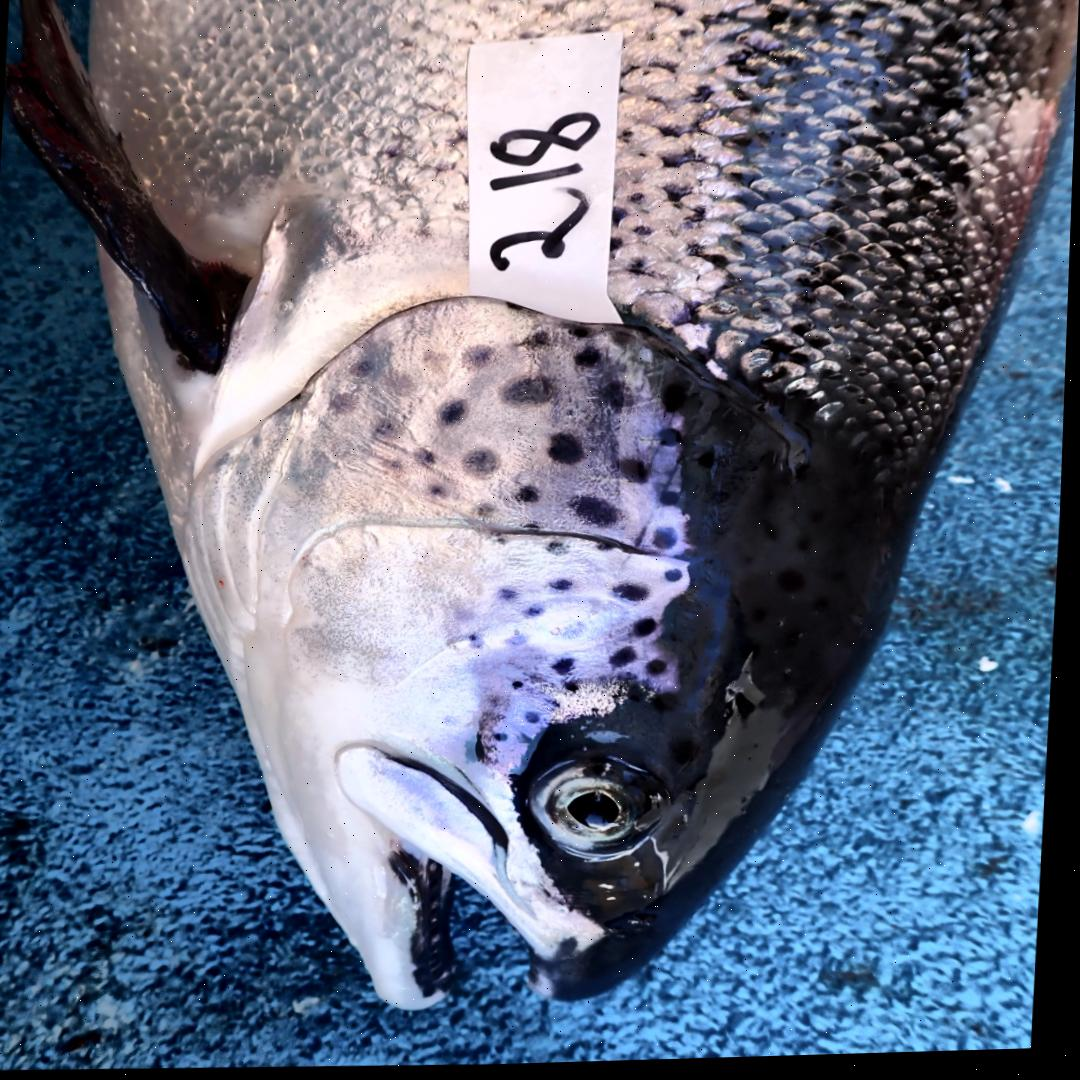spot: (573, 498, 622, 529), (506, 380, 556, 408), (550, 436, 588, 468), (600, 385, 640, 410), (621, 461, 653, 487), (577, 349, 609, 375), (664, 387, 690, 417), (381, 415, 406, 443), (469, 454, 501, 475), (468, 345, 494, 370), (616, 587, 653, 604), (332, 397, 361, 418), (442, 404, 469, 426), (615, 650, 642, 671), (566, 330, 603, 345), (659, 528, 681, 552), (351, 360, 379, 378), (660, 431, 686, 450), (565, 625, 594, 642), (527, 334, 554, 352), (640, 621, 663, 641), (430, 485, 453, 503), (519, 488, 543, 505), (557, 661, 581, 678), (417, 448, 438, 466), (509, 637, 536, 650), (551, 544, 574, 558), (474, 633, 489, 654), (652, 663, 673, 678), (663, 494, 684, 509), (477, 505, 501, 518), (555, 581, 581, 593), (528, 608, 550, 619), (668, 572, 686, 585), (498, 535, 514, 549), (504, 590, 523, 601), (572, 685, 588, 695), (497, 733, 513, 743), (532, 715, 546, 726), (517, 682, 530, 692)
